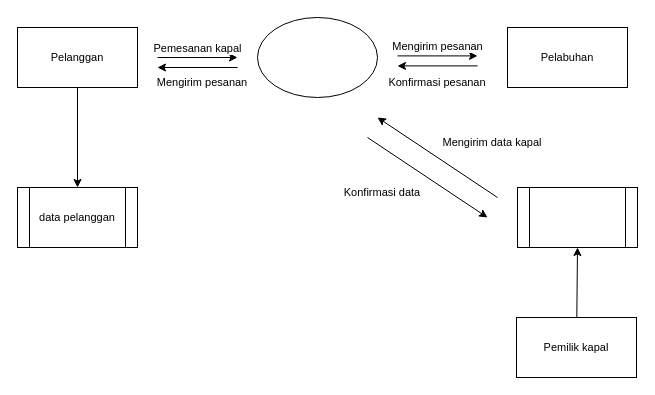
This 655x395 diagram has some shape labels left out. The box of each missing label's shape, as (x1, y1, x2, y2) in pixels:
data kapal: (516, 186, 638, 248)
Proses sistem informasi: (256, 16, 378, 98)
